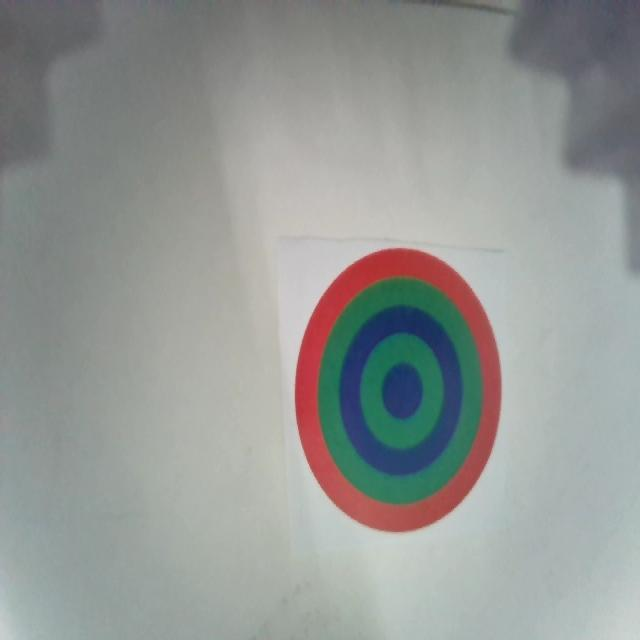cogn: (294, 247, 502, 533)
